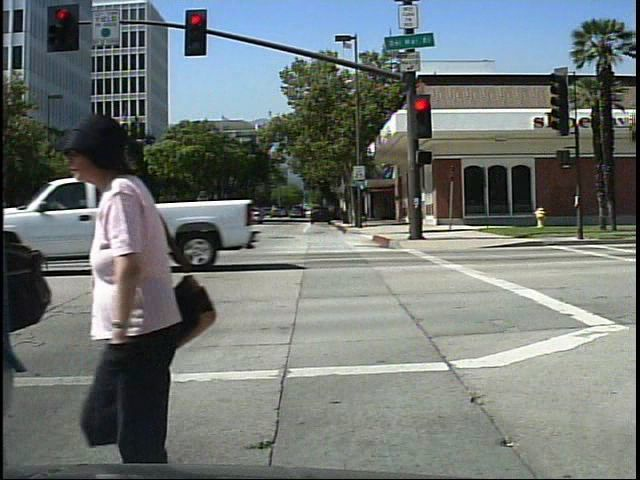person: (56, 108, 235, 470)
